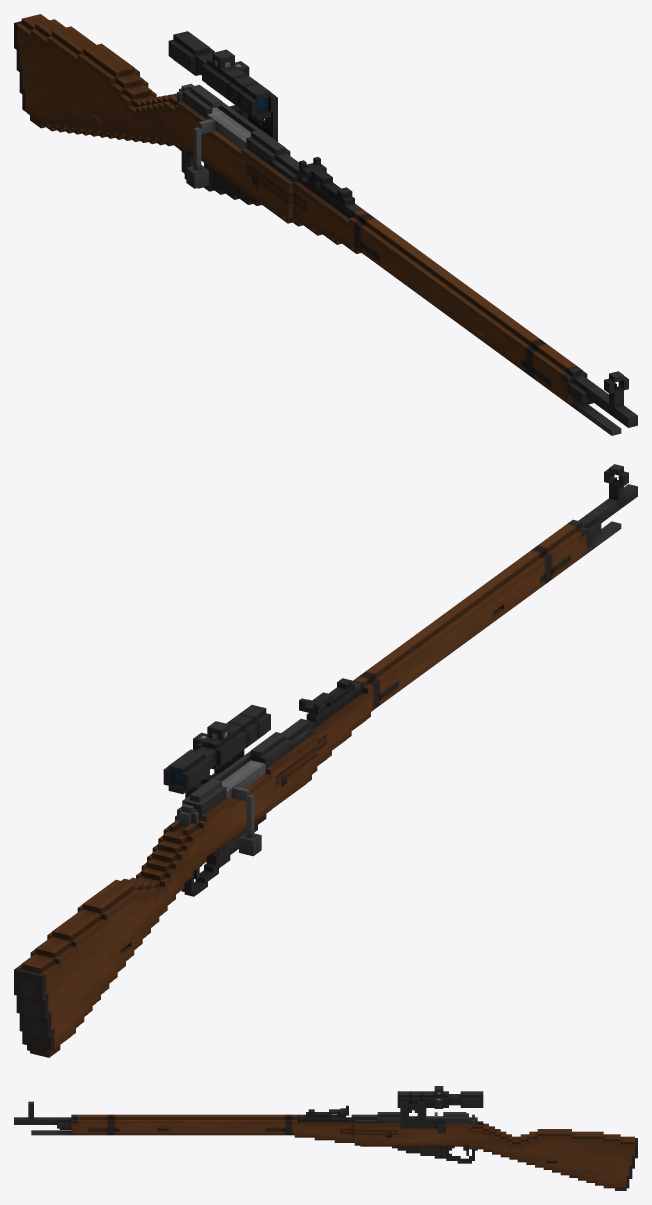
Rendered from RD_MOSIN.glb.
3 views of the same model, one above another, from view 1: azimuth 30°, elevation 25°; view 2: azimuth 150°, elevation 25°; view 3: azimuth 270°, elevation 25° (orthographic). The views are drawn at different scales.
Parts seen in each view (by area): view 1: MOSIN, MOSIN_NAGANT_SCOPE, MOSIN_NAGANT_BOLT_P1; view 2: MOSIN, MOSIN_NAGANT_SCOPE, MOSIN_NAGANT_BOLT_P1, MOSIN_NAGANT_BOLT_P2; view 3: MOSIN, MOSIN_NAGANT_SCOPE, MOSIN_NAGANT_BOLT_P2.
Part boxes in pixels (x1=…): MOSIN: x1=14, y1=14, x2=637, y2=435; MOSIN_NAGANT_SCOPE: x1=168, y1=31, x2=277, y2=141; MOSIN_NAGANT_BOLT_P1: x1=186, y1=107, x2=250, y2=188; MOSIN: x1=14, y1=464, x2=637, y2=1057; MOSIN_NAGANT_SCOPE: x1=163, y1=705, x2=270, y2=798; MOSIN_NAGANT_BOLT_P1: x1=222, y1=760, x2=265, y2=856; MOSIN_NAGANT_BOLT_P2: x1=177, y1=778, x2=221, y2=826; MOSIN: x1=14, y1=1101, x2=637, y2=1190; MOSIN_NAGANT_SCOPE: x1=397, y1=1086, x2=483, y2=1133; MOSIN_NAGANT_BOLT_P2: x1=443, y1=1112, x2=477, y2=1125.
Bounding box in the file's own units: 0.128 × 0.3839 × 2.15.
1 material, 1 textured.
